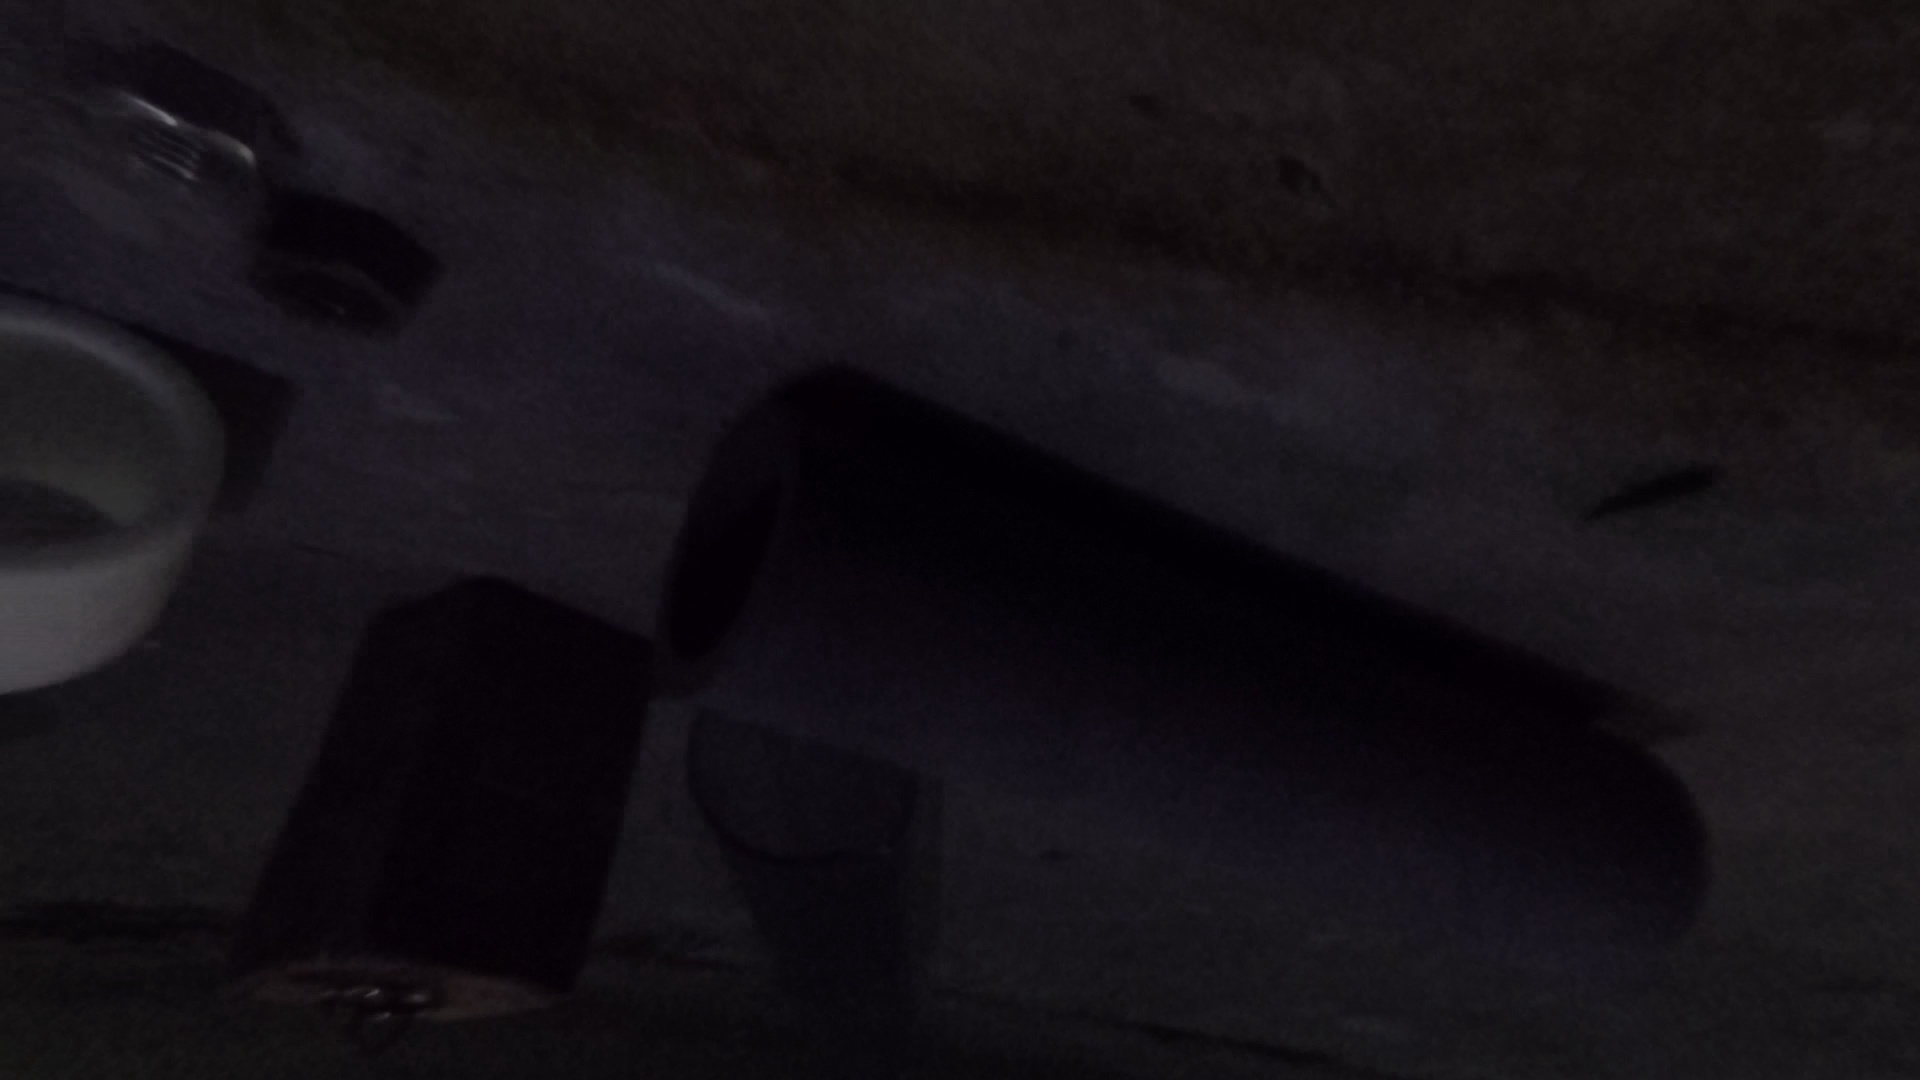led_block: (218, 578, 657, 1056)
nut: (240, 194, 440, 338), (119, 57, 274, 204)
pipe: (650, 367, 1706, 967), (1, 290, 231, 696), (684, 704, 915, 1065)
